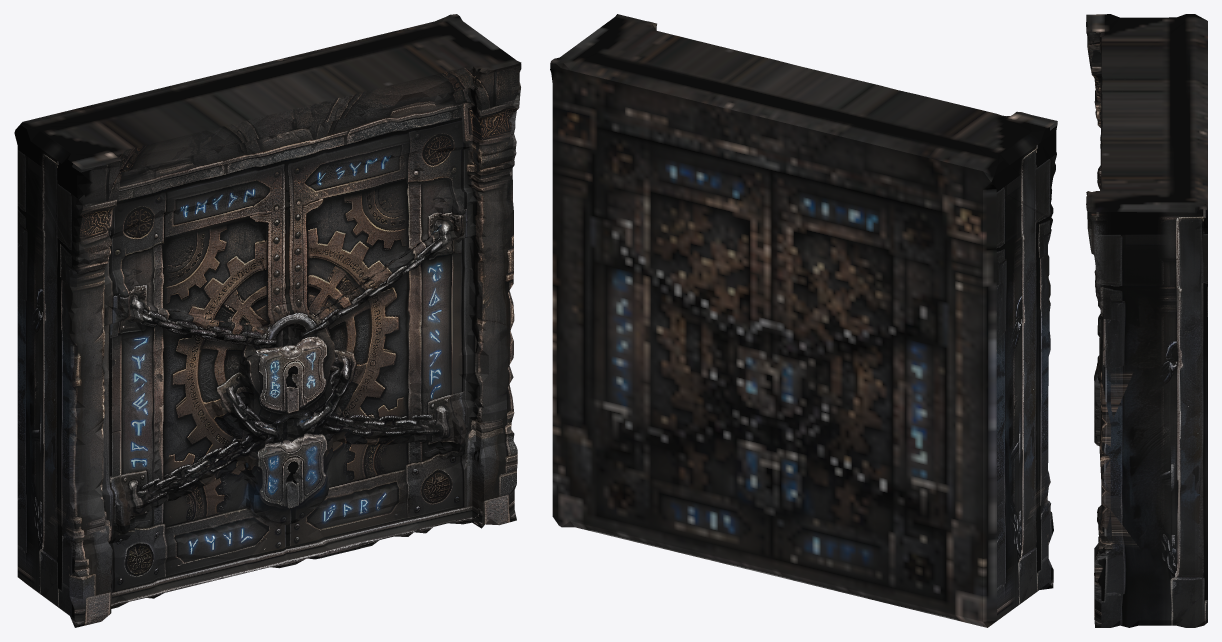
The model's file is HC_STHall_WideWallDoor_01.fbx.
The picture shows the model from 3 angles, left to right: view 1: azimuth 30°, elevation 25°; view 2: azimuth 150°, elevation 25°; view 3: azimuth 270°, elevation 25°; orthographic projection. The views are drawn at different scales.
Parts seen in each view (by area): view 1: HC_STHall_WideWallDoor_01; view 2: HC_STHall_WideWallDoor_01; view 3: HC_STHall_WideWallDoor_01.
Part boxes in pixels (x1=…): HC_STHall_WideWallDoor_01: x1=14, y1=14, x2=521, y2=627; HC_STHall_WideWallDoor_01: x1=550, y1=14, x2=1057, y2=627; HC_STHall_WideWallDoor_01: x1=1086, y1=14, x2=1207, y2=627.
Size of the model in its own units: 1.98 by 0.5201 by 1.98.
